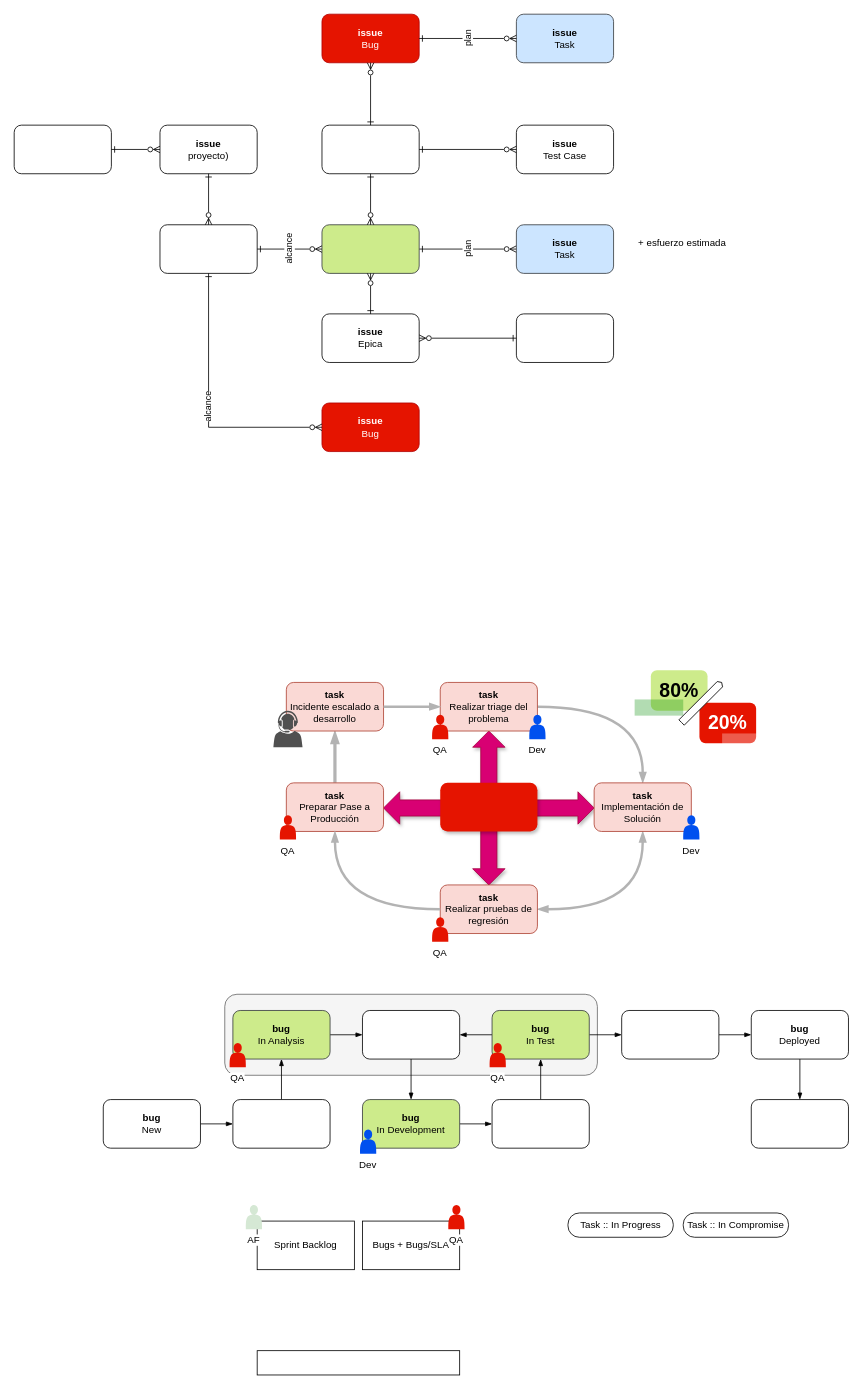
This 863x1389 diagram has some shape labels left out. Here are the shapes that lost their labels. From the top down, the centre of each, then its label:
At point (62, 149): "group producto".
At point (370, 149): "issue Funcionalidad".
At point (208, 248): "milestone Spring (subproyecto)".
At point (370, 248): "issue User Story".
At point (565, 337): "issue Tema".
At point (658, 707): "desarrollo".
At point (287, 728): "eSAC".
At point (746, 741): "bugfixing".
At point (489, 808): "issue Bug + duedate".
At point (411, 1034): "bug To Develop".
At point (670, 1034): "bug Done".
At point (281, 1123): "bug To Analysis".
At point (540, 1123): "bug To Test".
At point (799, 1123): "bug Closed".
At point (358, 1362): "Carga de Trabajo Activa".
